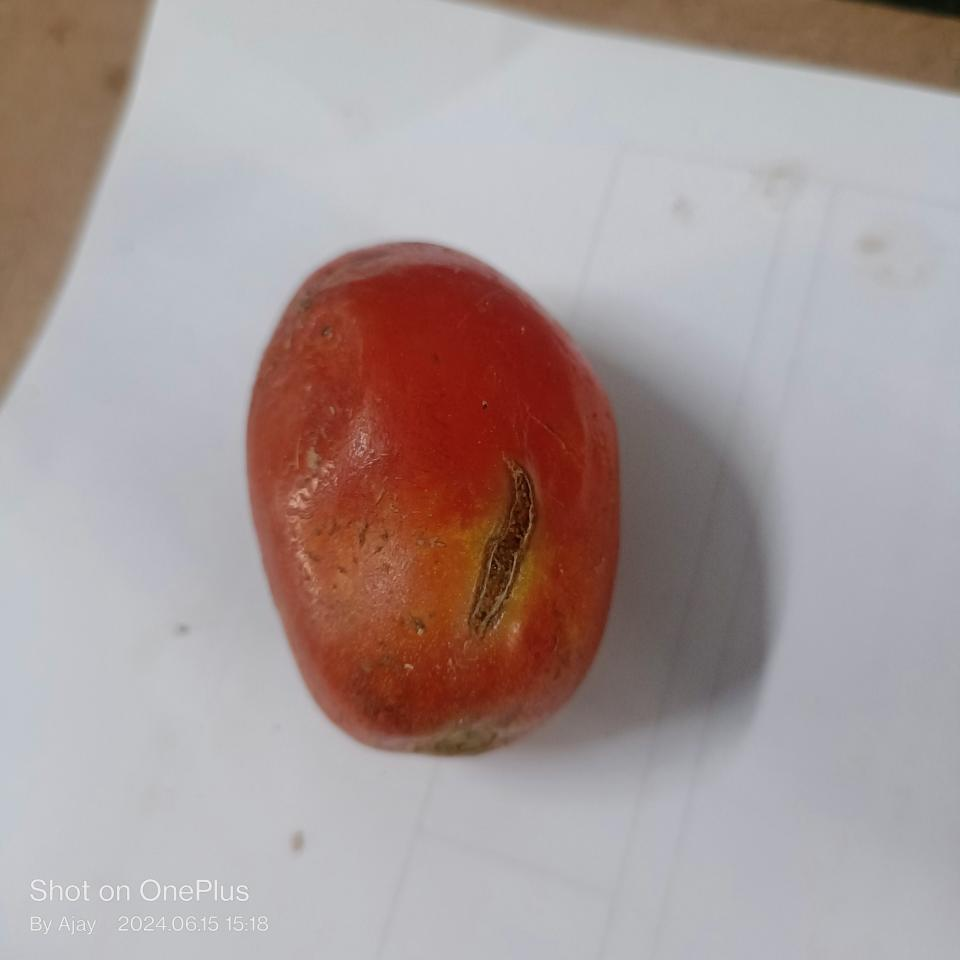Cracking: (458, 462, 539, 630)
